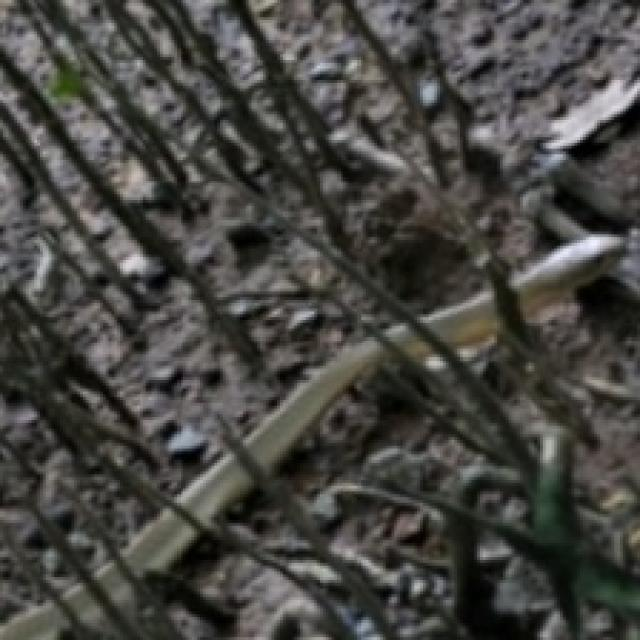king cobra: (0, 0, 637, 637), (246, 334, 389, 471), (243, 337, 386, 471), (123, 454, 251, 574), (509, 229, 626, 317), (511, 234, 620, 311)
